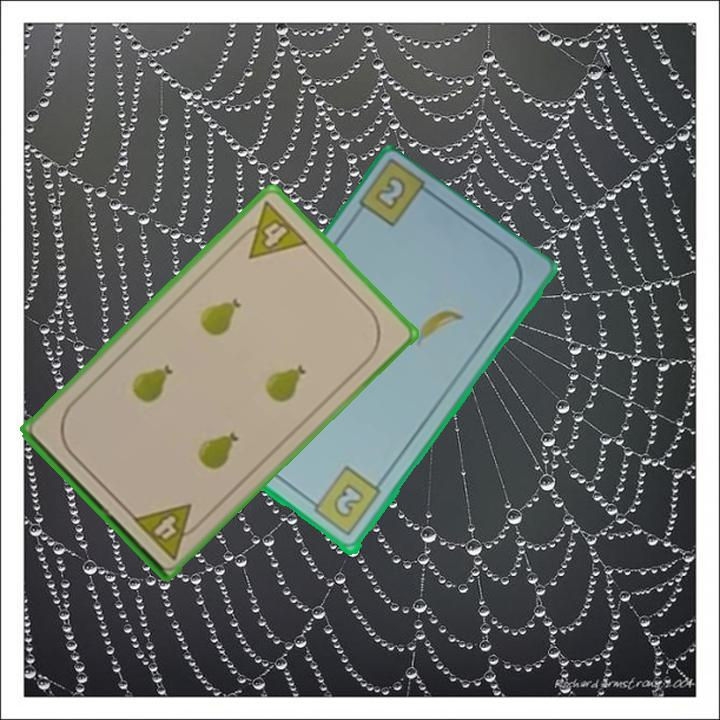2b: (304, 463, 384, 540), (371, 172, 410, 214)
4p: (230, 197, 311, 262), (128, 497, 207, 562)
